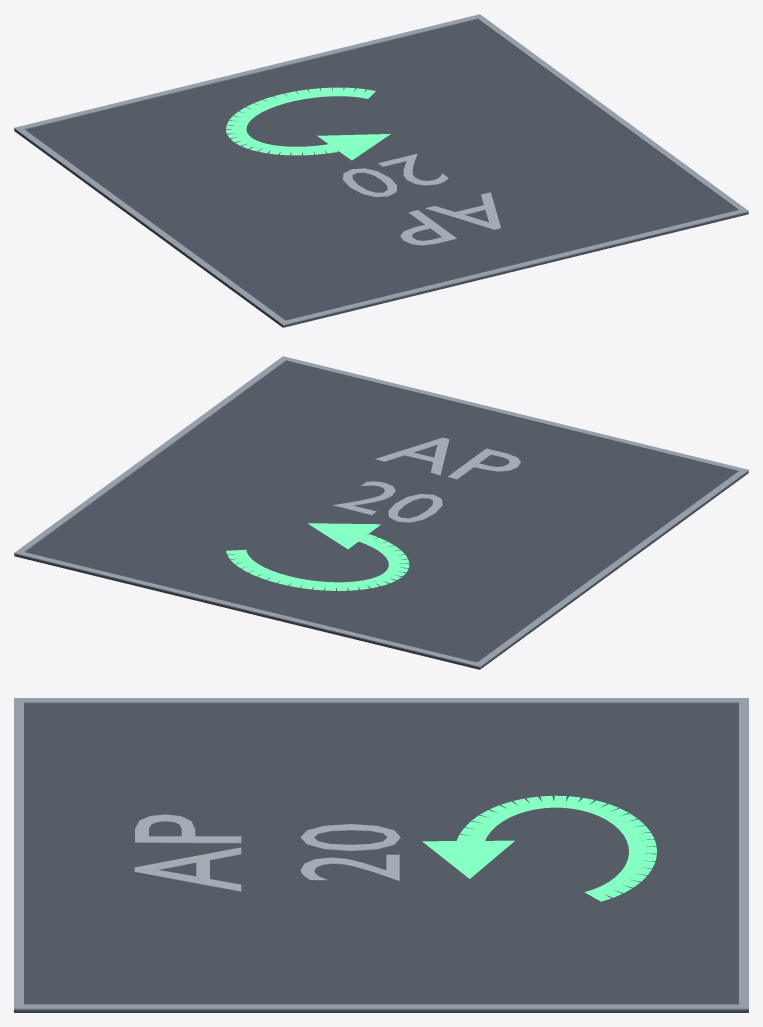
Rendered from SM_VR_AP_Pad.fbx.
The picture shows the model from 3 angles, top to bottom: view 1: azimuth 30°, elevation 25°; view 2: azimuth 150°, elevation 25°; view 3: azimuth 270°, elevation 25°; orthographic projection. The views are drawn at different scales.
Visible parts, largest first — view 1: SM_VR_AP_Pad; view 2: SM_VR_AP_Pad; view 3: SM_VR_AP_Pad.
Boxes of the visible parts, x1,y1,x2,y2 form: SM_VR_AP_Pad: [14, 14, 748, 327]; SM_VR_AP_Pad: [14, 356, 748, 669]; SM_VR_AP_Pad: [14, 698, 748, 1012].
Size of the model in its own units: 118 by 118 by 1.2.
